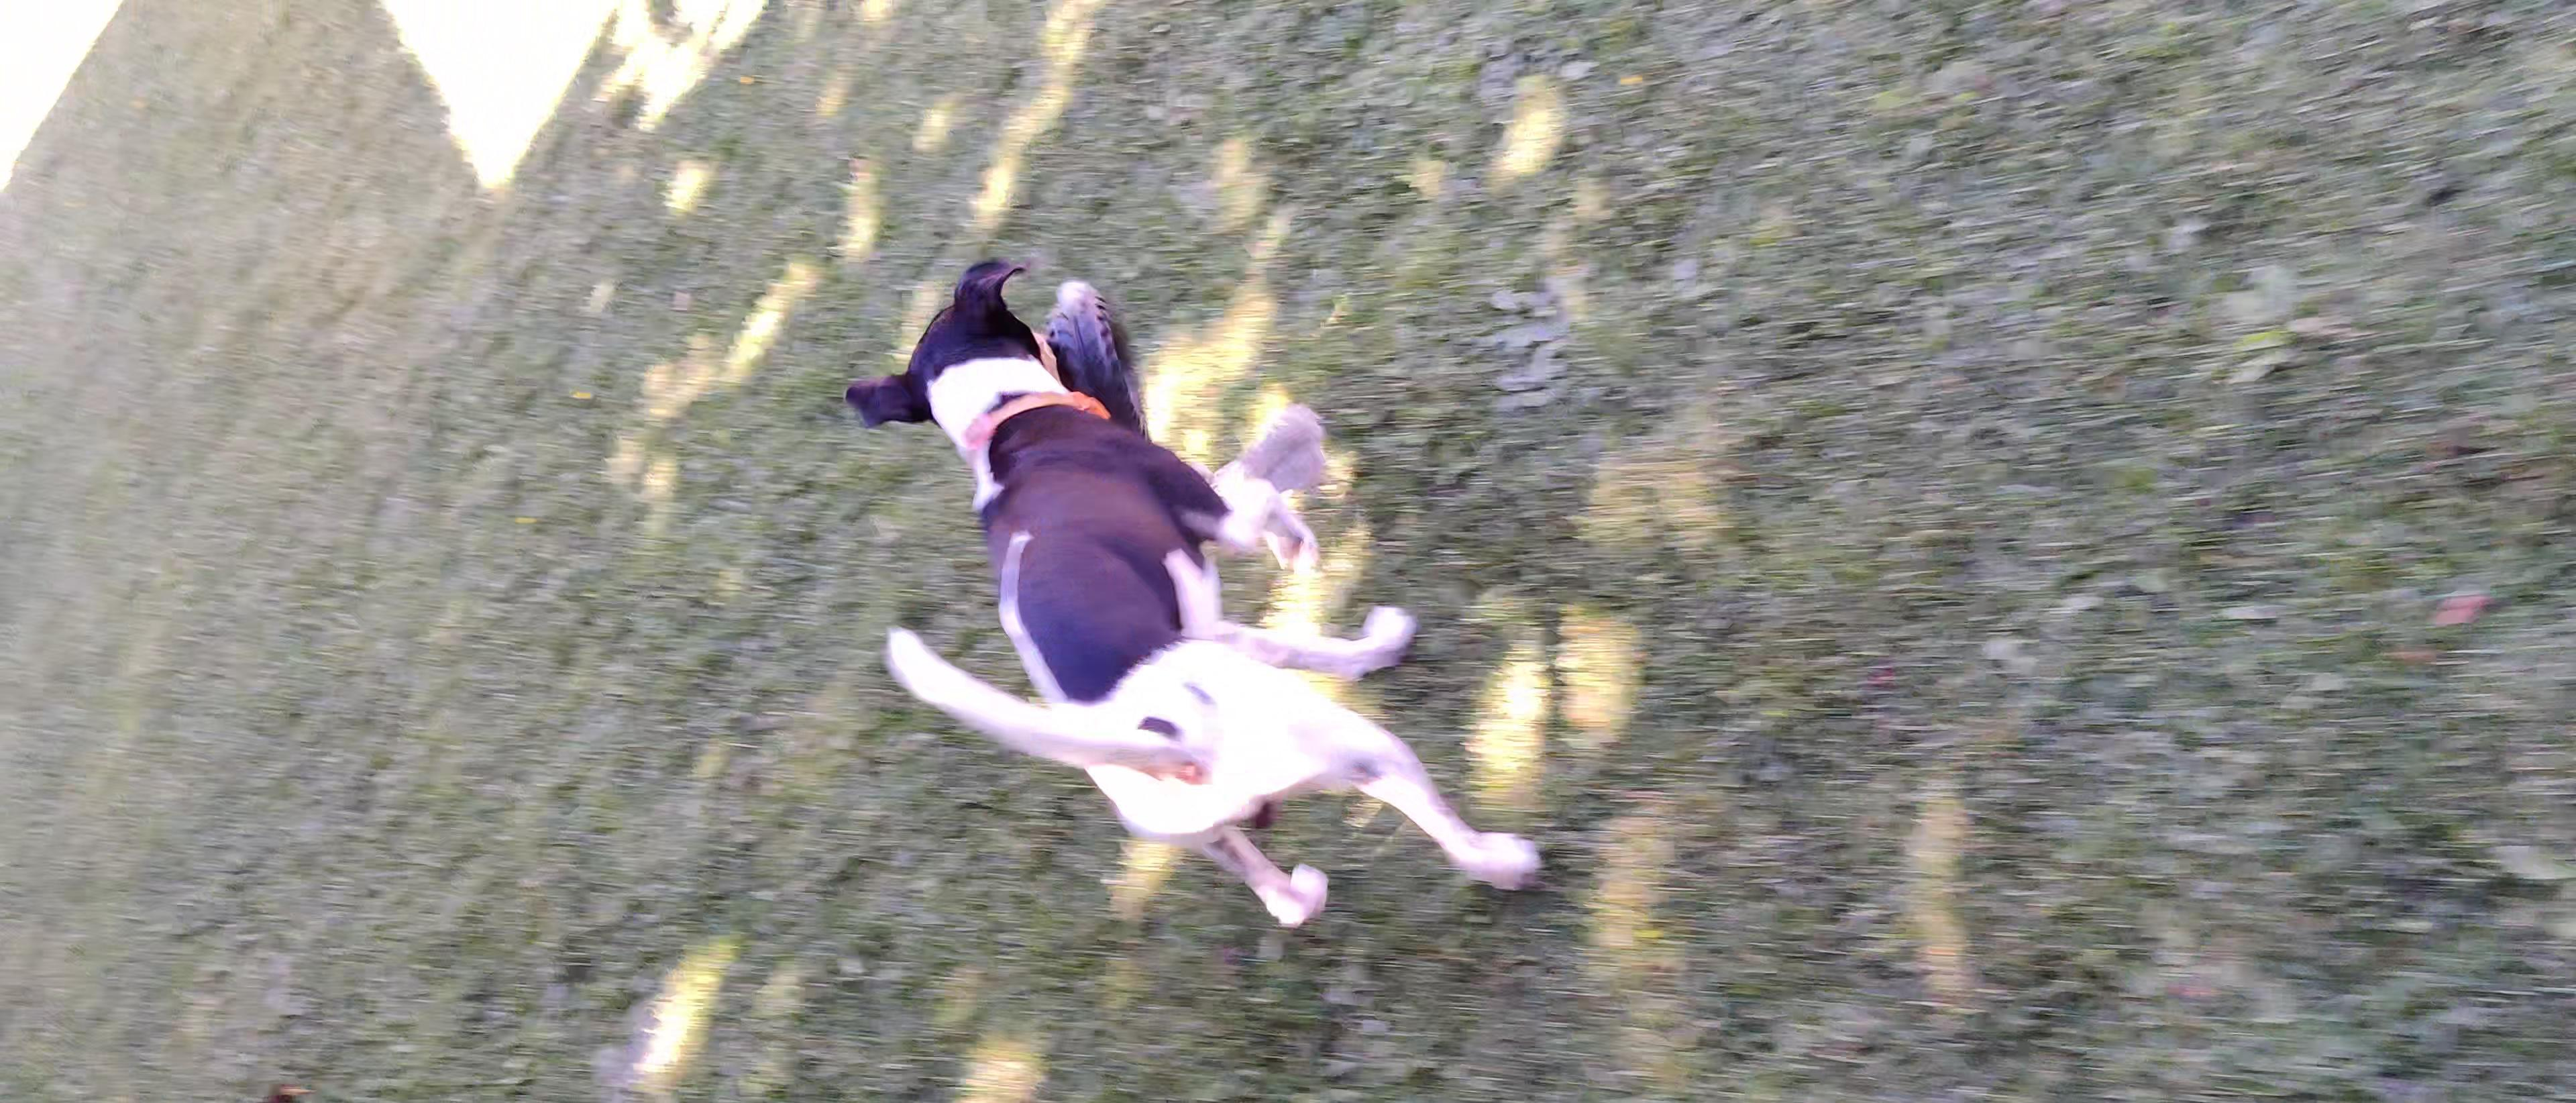Dog: (835, 250, 1557, 929)
